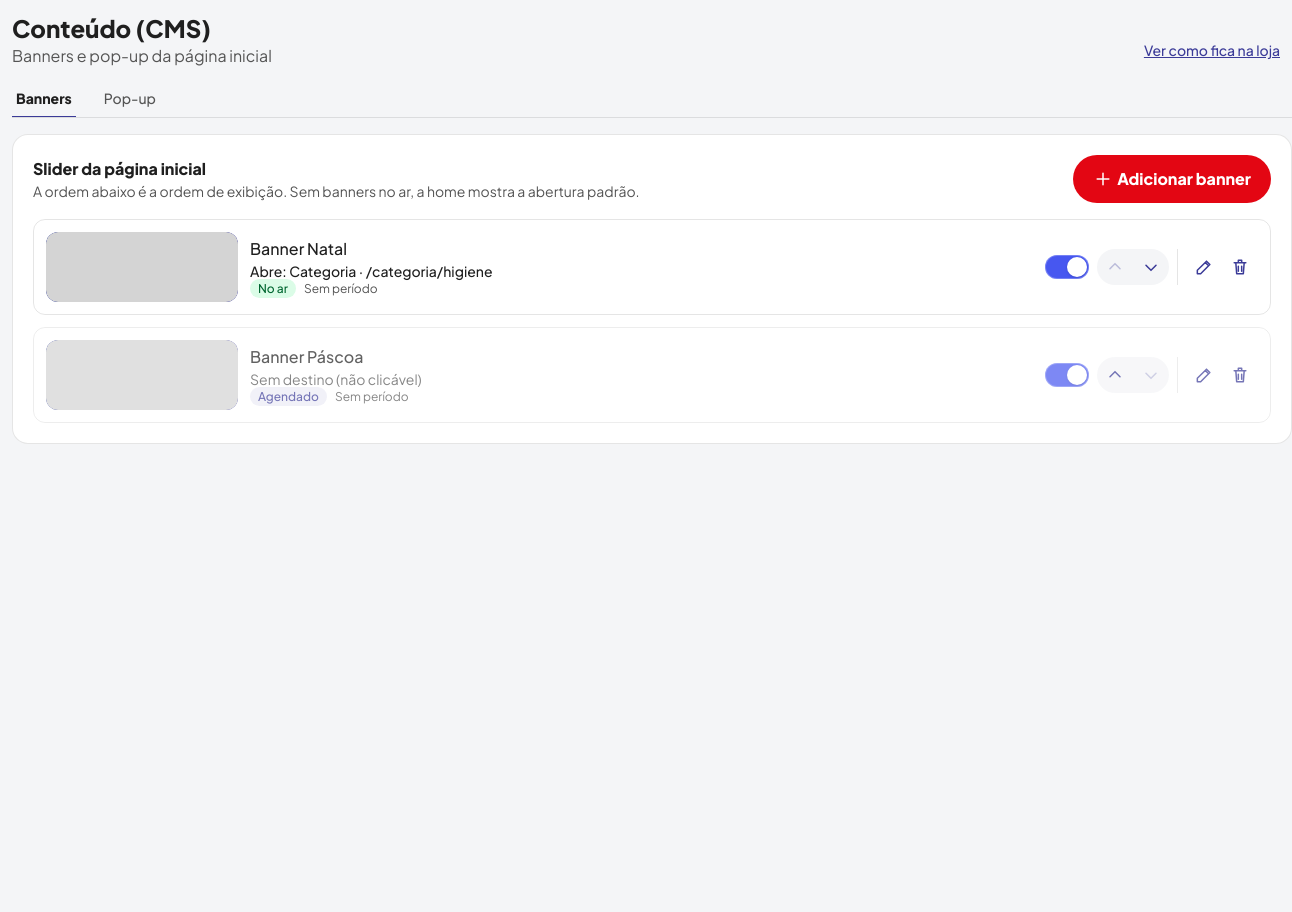
Test case: CMS: pop-up › mostra contadores de caracteres do título (150) e do texto (2000)
The width and height of the screenshot is (1292, 912).
Click the tab "Pop-up": (130, 103) [100,88,160,118]
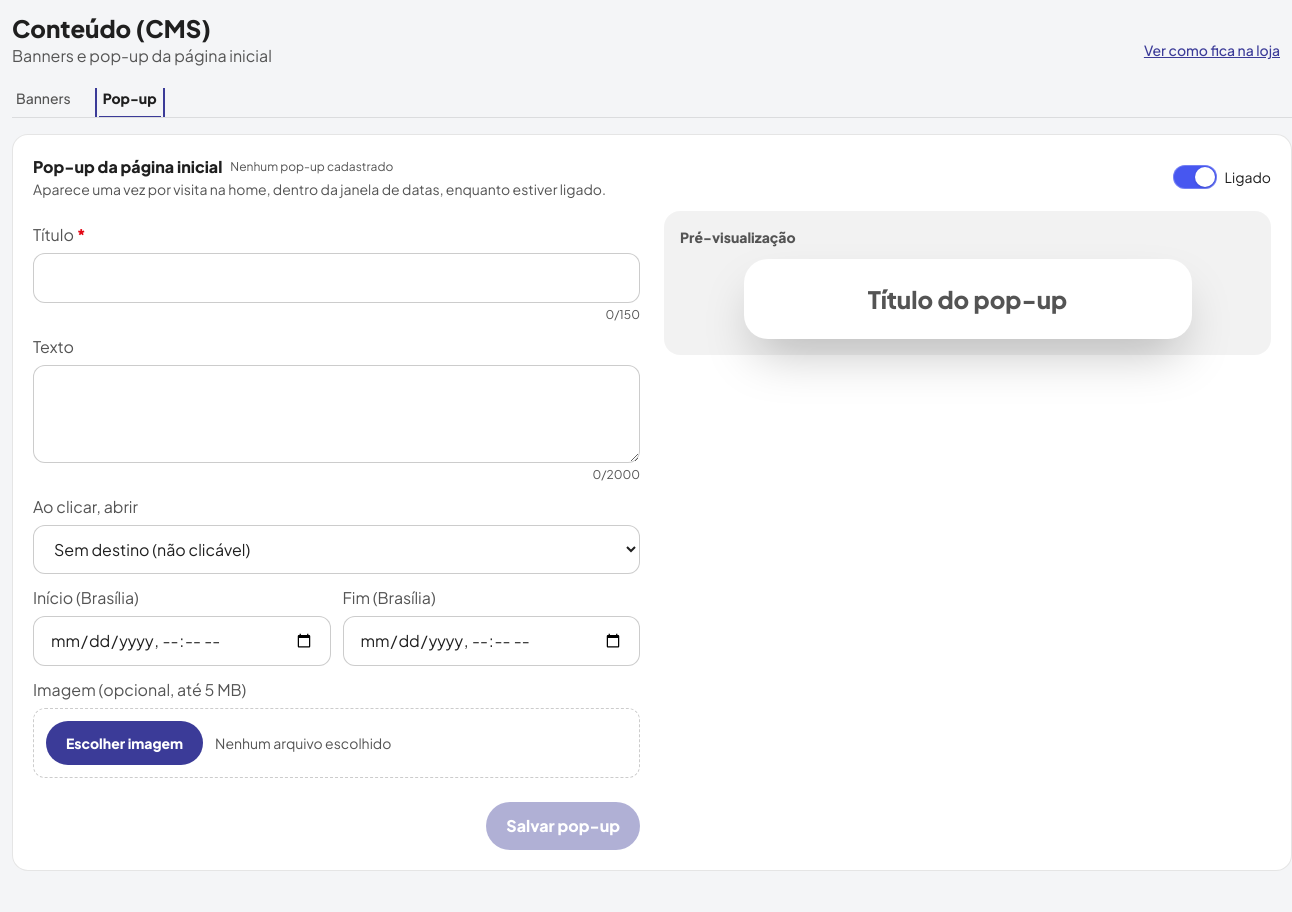
Expected: the heading "Pop-up da página inicial" is shown, [33,155,222,179]
Expected: the text "0/150" is shown, [605,307,640,322]
Expected: the text "0/2000" is shown, [592,467,640,482]
In the field labelled "Título *": (336, 278) [33,253,640,303], type "Oi"
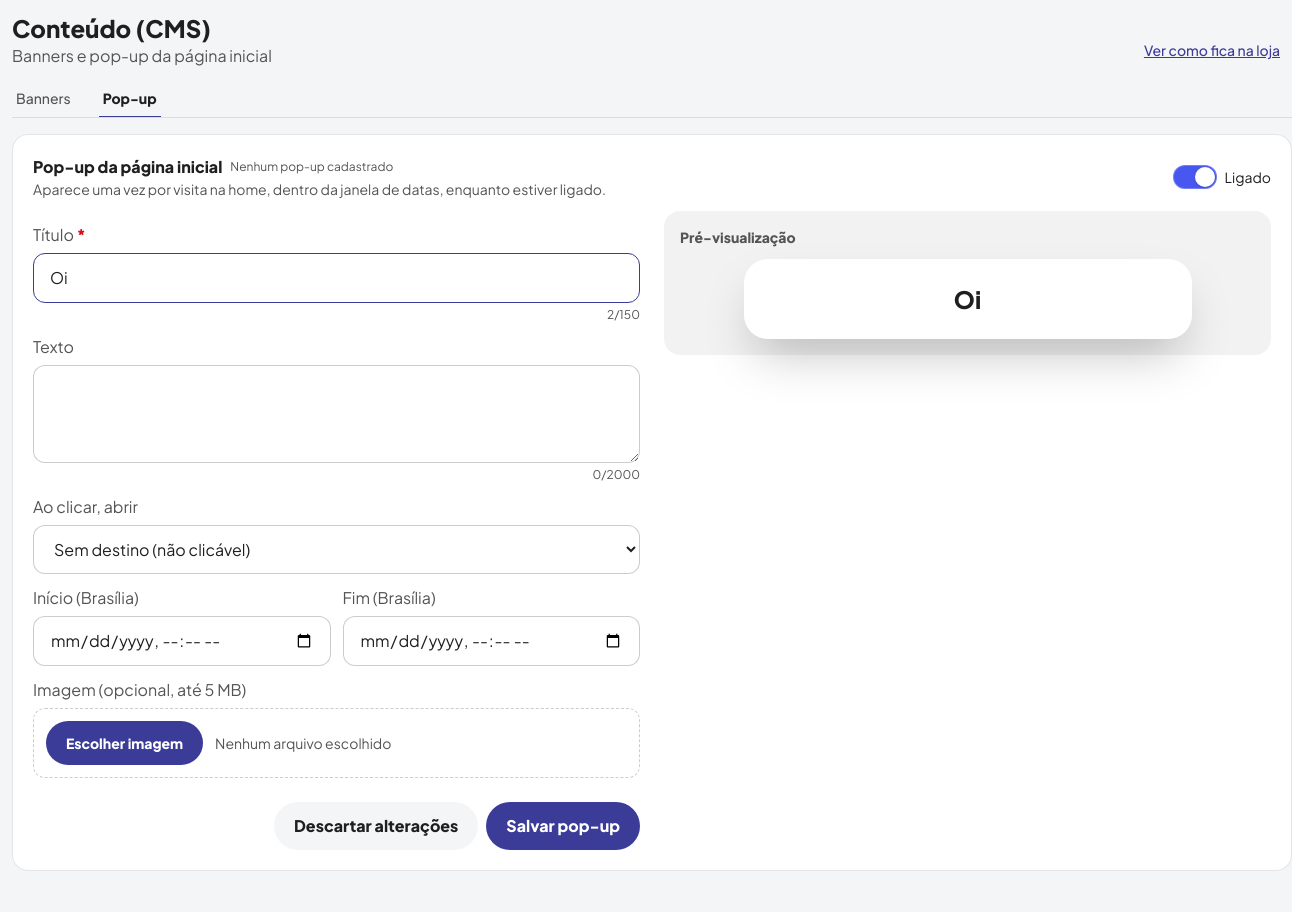
Expected: the text "2/150" is shown, [607,307,640,322]
